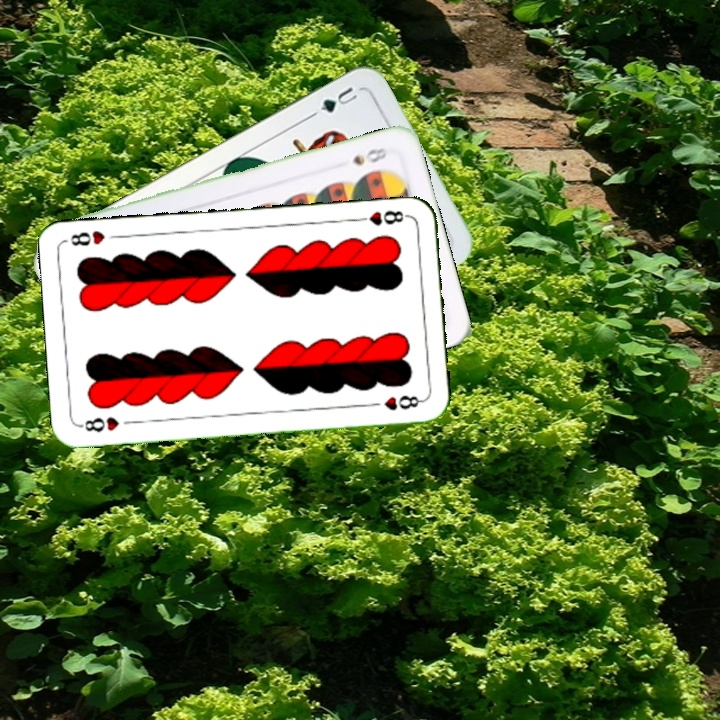GU: (307, 82, 360, 119)
H8: (352, 206, 412, 228), (76, 412, 121, 435)
S8: (349, 143, 391, 168)
